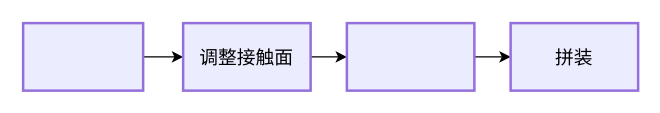
Image size: 660x113. Some labels were removed from this diagram. Here are the shapes that lost their labels. From the top down, the centre of each, then its label:
At point (82, 56): "抓取模拟砖".
At point (410, 56): "简单位姿调整".
